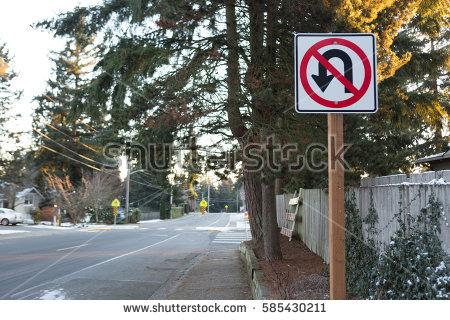no_u_turn: (300, 37, 370, 106)
